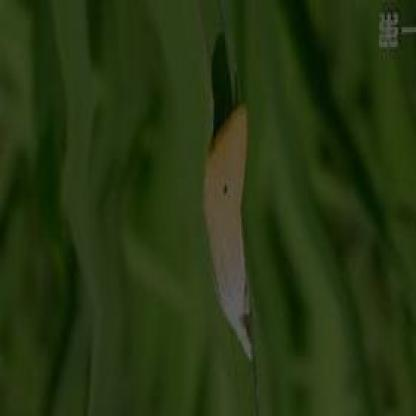stem-borer: (198, 100, 256, 364)
